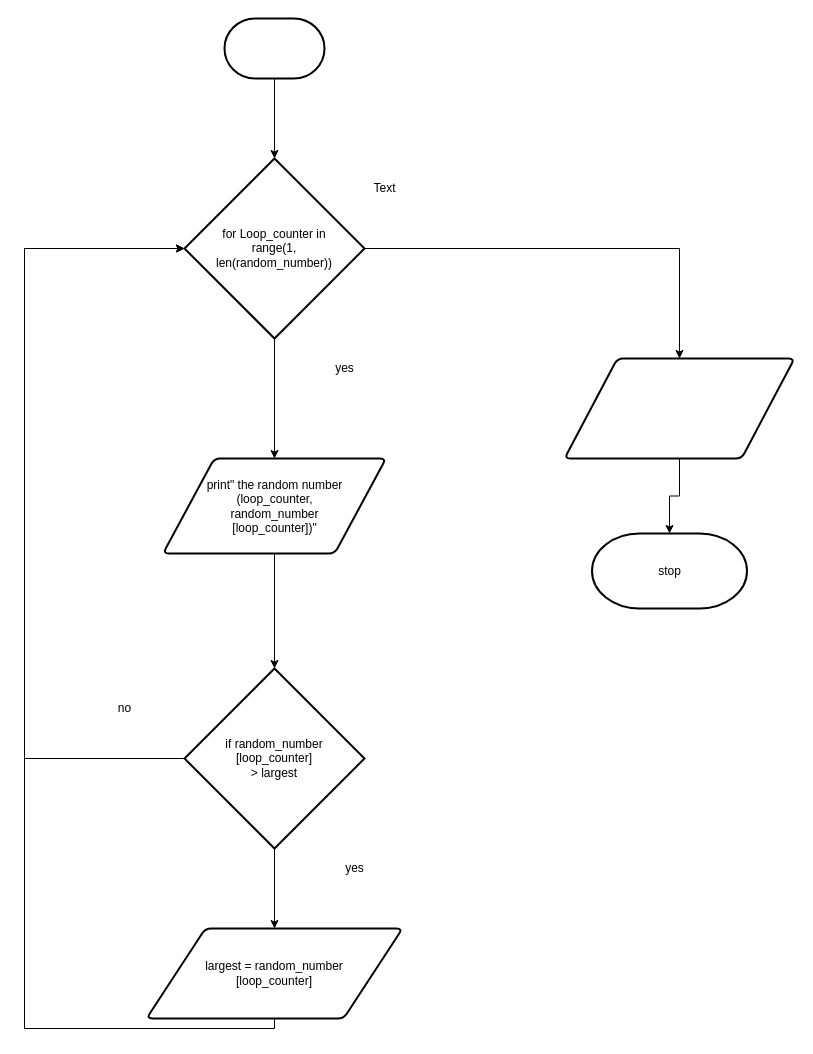
Some shapes in this 813 by 1054 pixel diagram are drawn without their labels. Each missing label, with the centre of its shape:
return largest: (679,408)
Start: (274,48)
